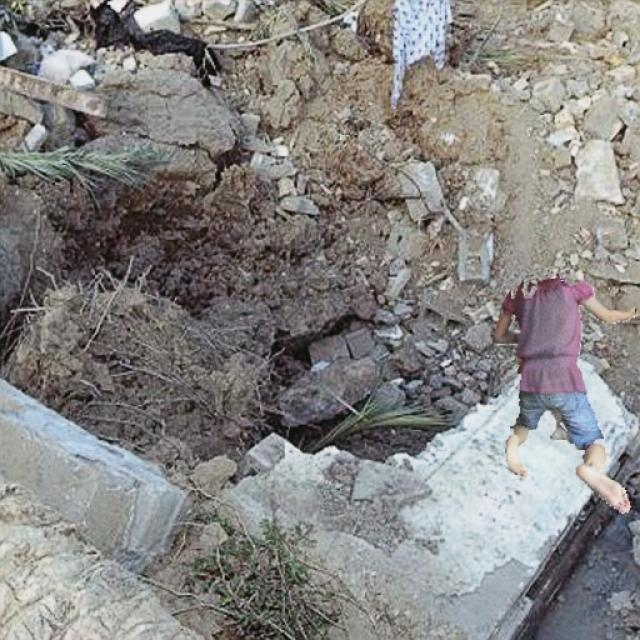Person in Rubble: (495, 274, 635, 512)
